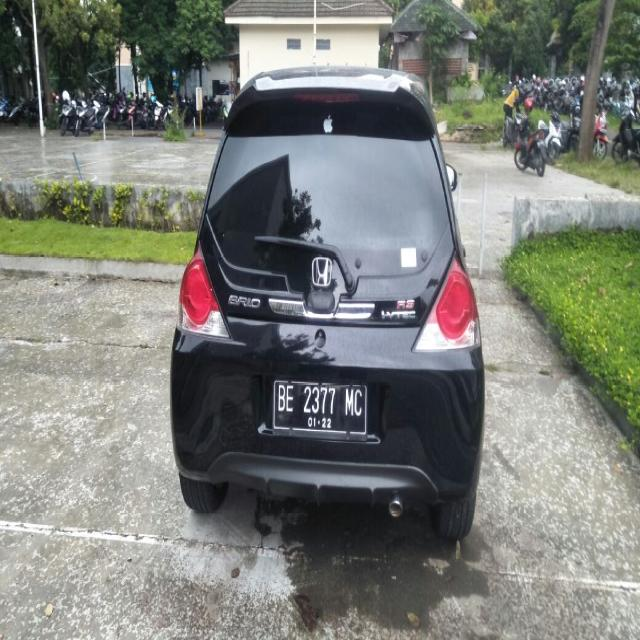plate: (271, 378, 368, 434)
